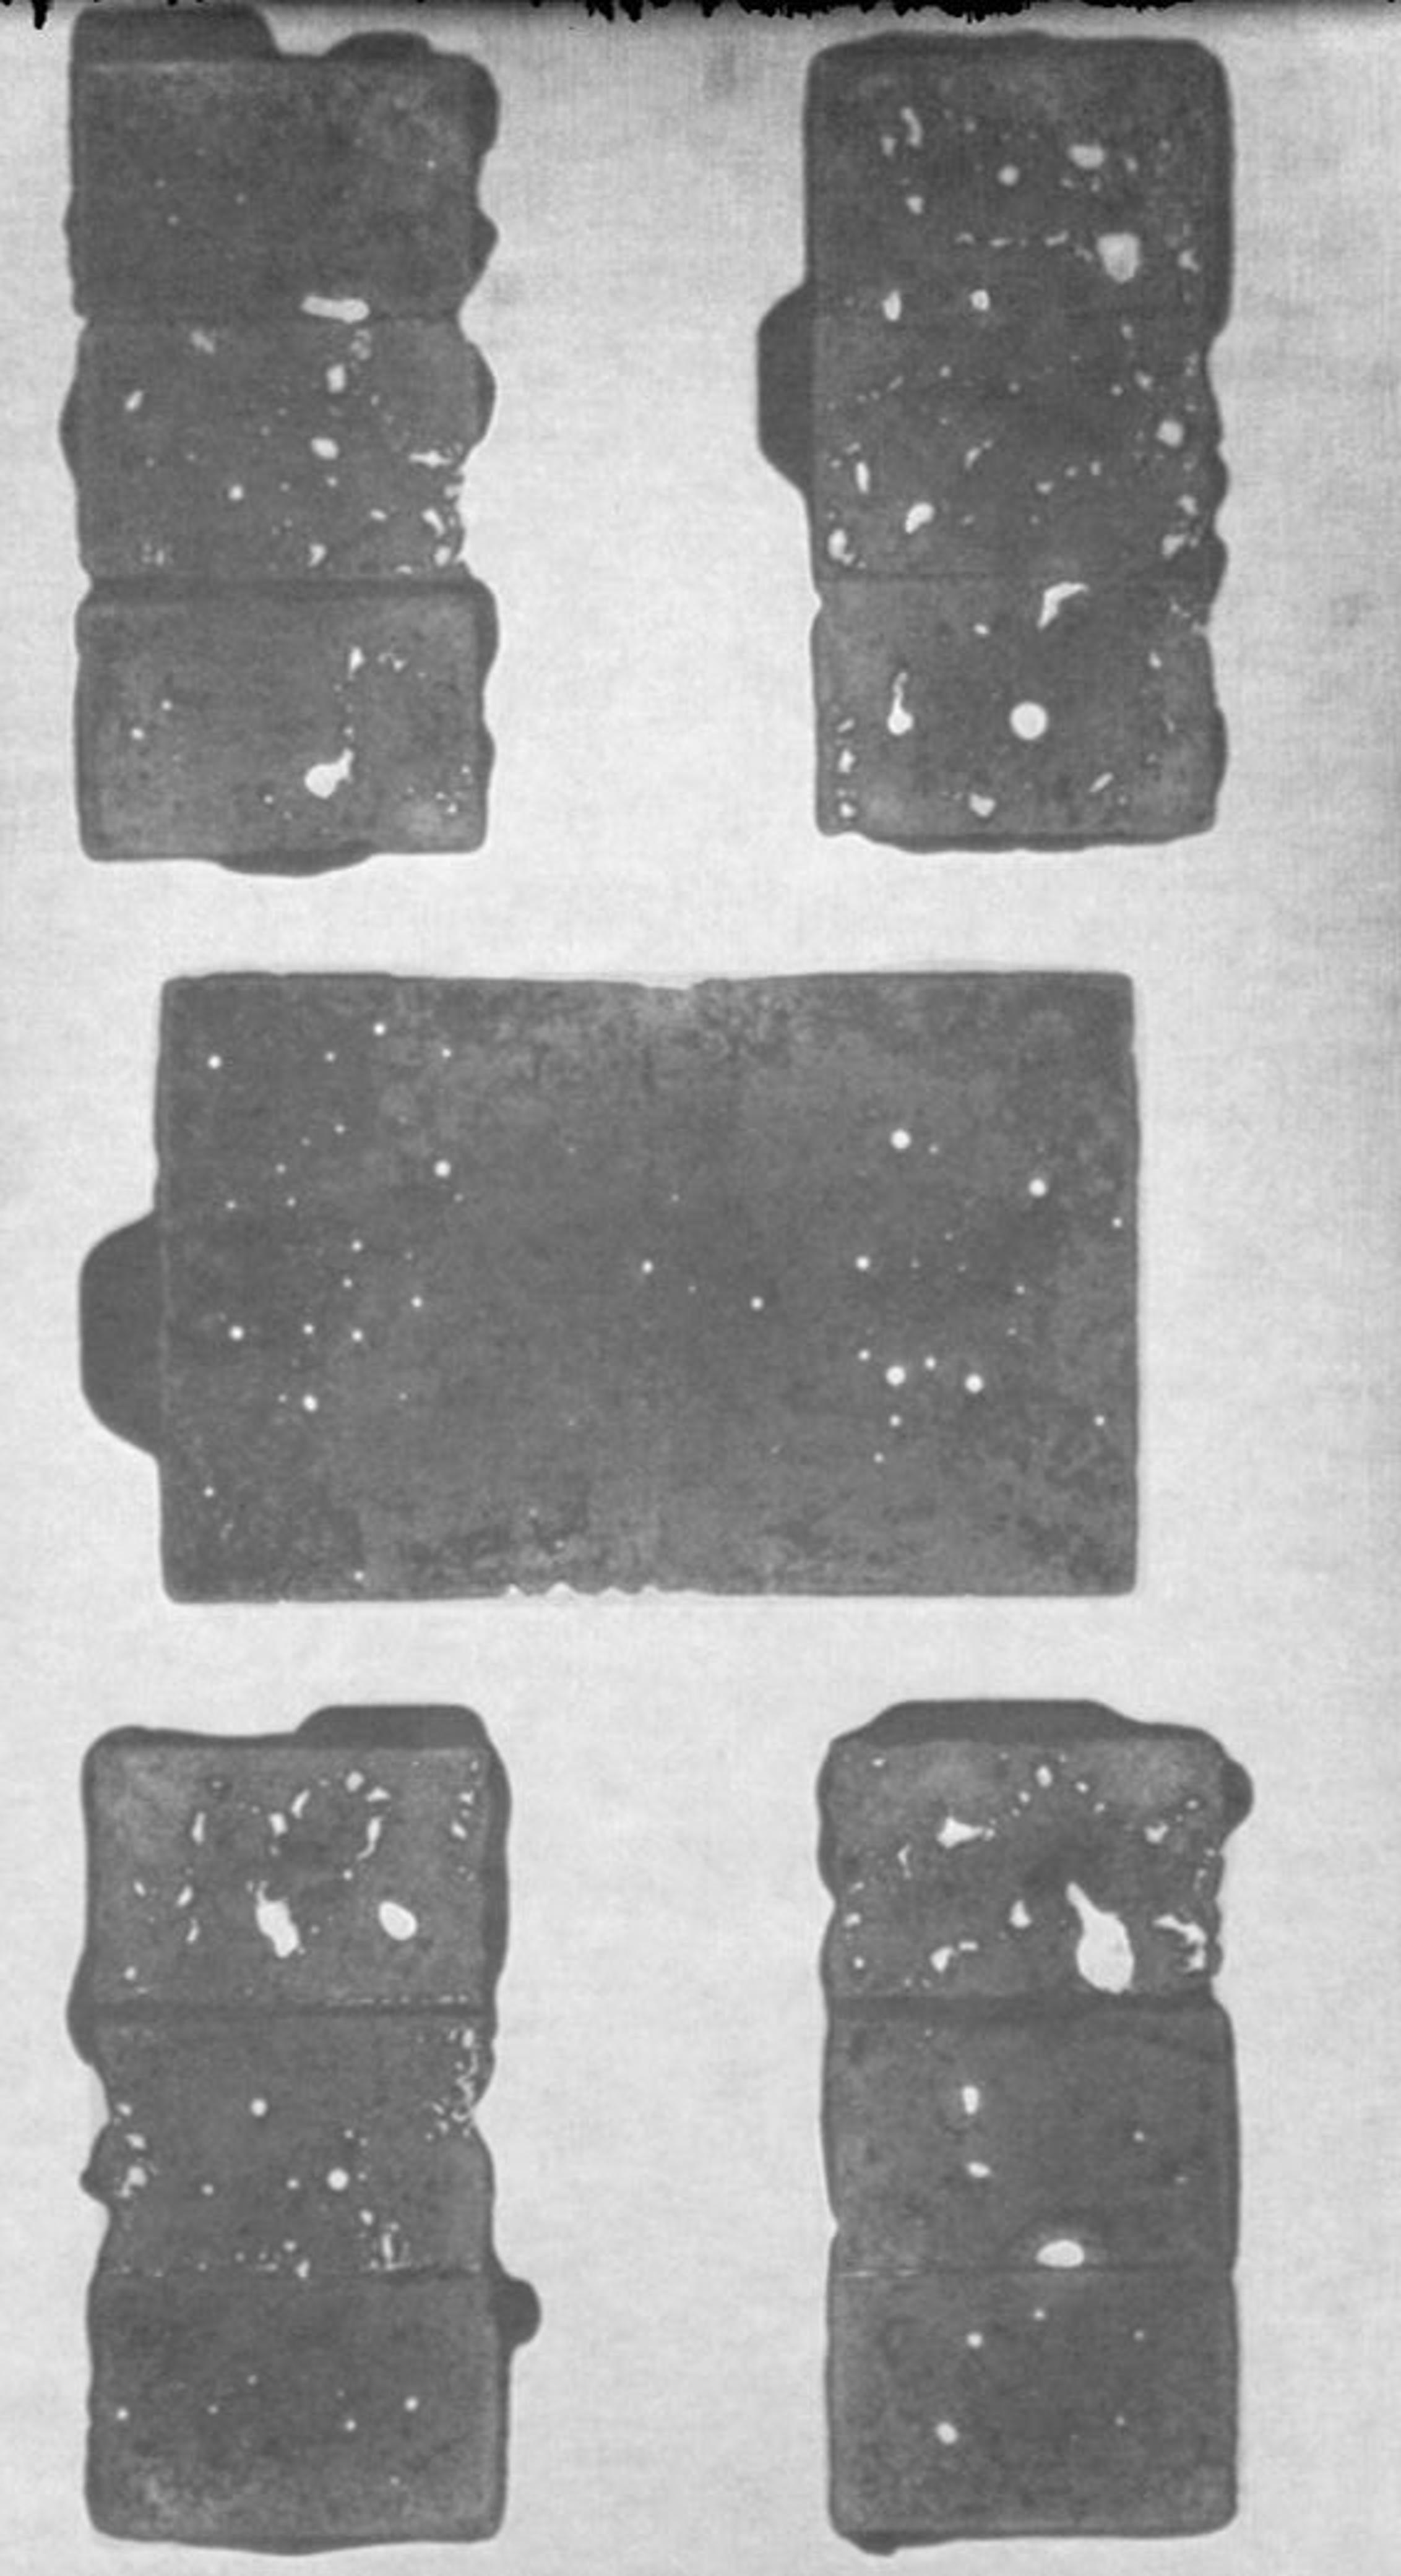CCD: (5, 159, 267, 160), (5, 172, 267, 174), (5, 440, 267, 441), (5, 1829, 267, 1831), (5, 2102, 267, 2104), (5, 2395, 267, 2397), (876, 159, 1137, 160), (876, 172, 1137, 174), (876, 440, 1137, 441), (876, 1829, 1137, 1831), (876, 2102, 1137, 2104), (876, 2395, 1137, 2397)
IOD: (166, 1100, 1132, 1459)
